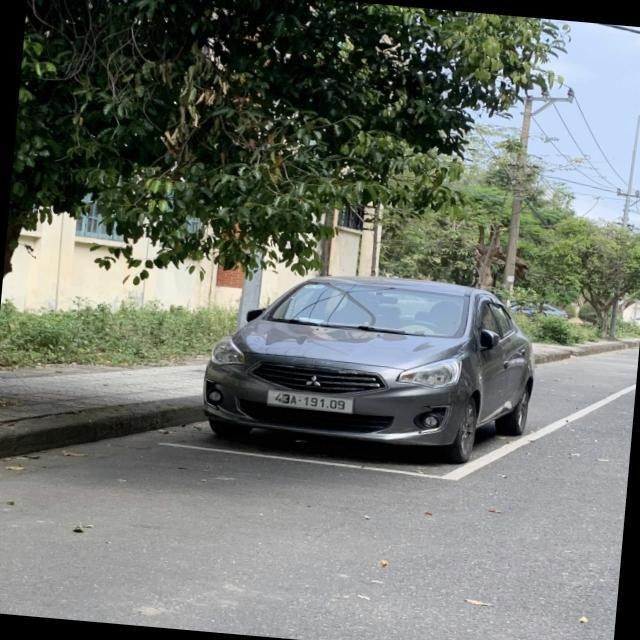car: (206, 274, 534, 465)
plate: (264, 385, 357, 418)
